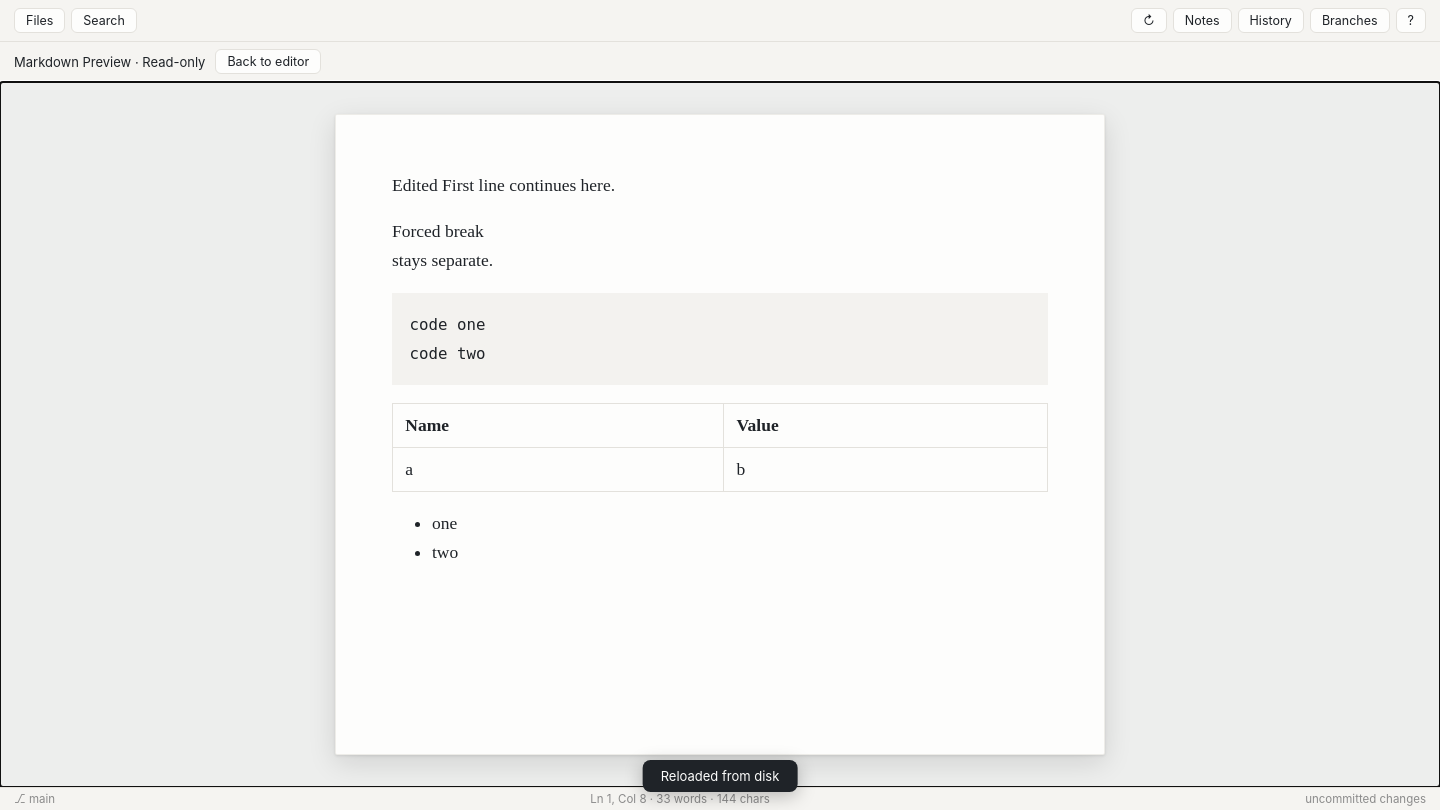
Test: renders a read-only Markdown preview and preserves the editable document and Undo
Check: the number of rows is 2, box [392,403,1048,447]; [392,447,1048,491]
Check: the number of list items is 2, box [432,513,457,533]; [432,542,458,562]
Click the button "Back to editor" at (268, 62), box [215,49,321,74]
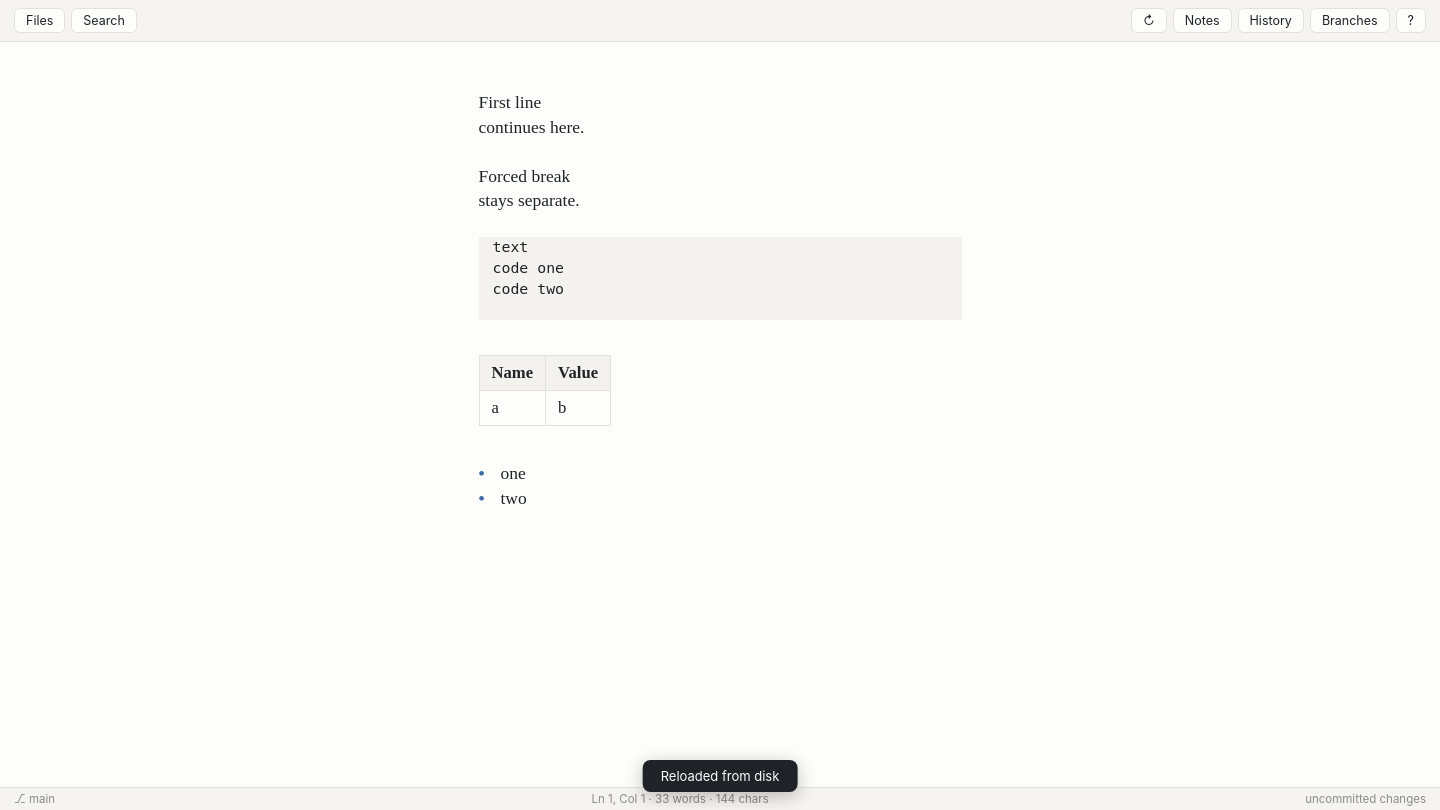
Check: the element with class "markdown-preview-screen" is gone
